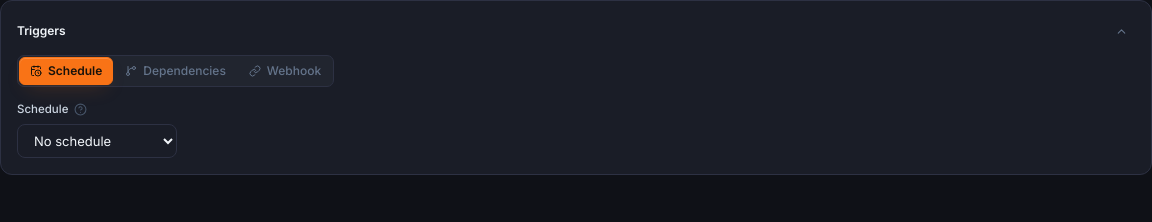
Test: TriggersCard › switches to the Dependencies tab and lists other pipelines to add
Click the button with test id "triggers-tab-dependencies".
click(176, 71)  # box 114,57 -> 237,85
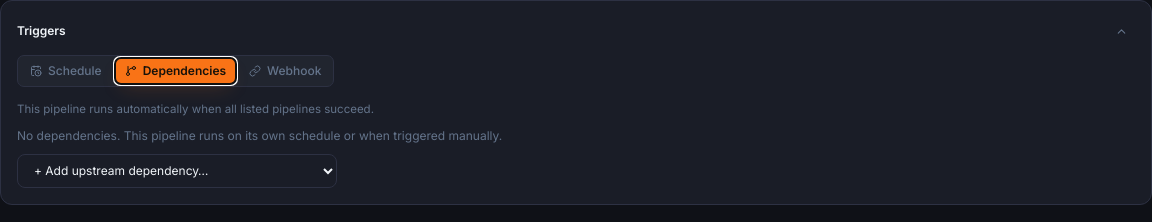
Now the text "No dependencies. This pipeline runs on its own schedule or when triggered manually." is shown, box 17,128 -> 502,143
